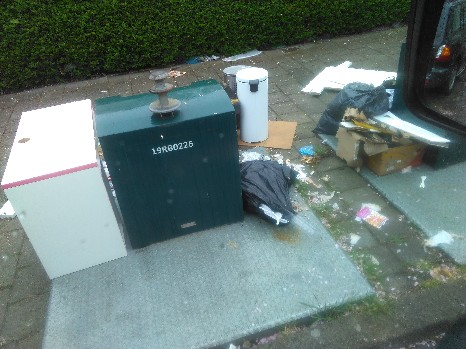Container: (95, 100, 252, 213)
Papier: (339, 93, 408, 182), (309, 81, 389, 128)
Rest: (6, 109, 111, 262), (245, 158, 308, 238), (237, 63, 282, 144)
